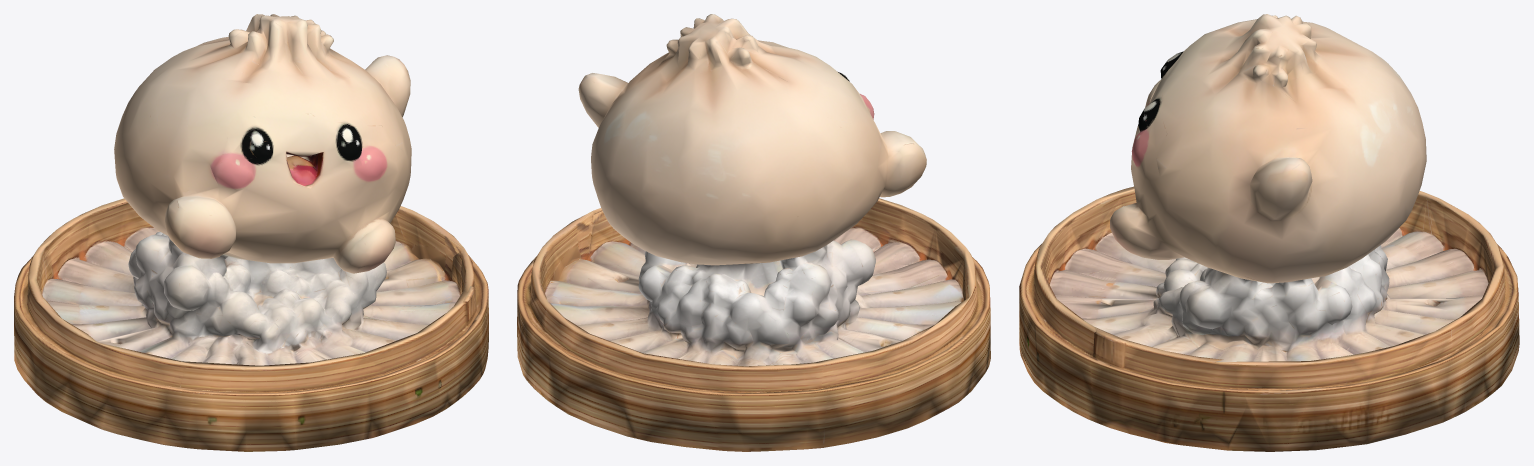
Rendered from soft_dumpling.glb.
The picture shows the model from 3 angles, left to right: view 1: azimuth 30°, elevation 25°; view 2: azimuth 150°, elevation 25°; view 3: azimuth 270°, elevation 25°; orthographic projection. The views are drawn at different scales.
Visible parts, largest first — view 1: Mesh_0; view 2: Mesh_0; view 3: Mesh_0.
Boxes of the visible parts, x1=… form: Mesh_0: x1=14, y1=14, x2=488, y2=451; Mesh_0: x1=517, y1=14, x2=990, y2=451; Mesh_0: x1=1019, y1=14, x2=1519, y2=451.
Size of the model in its own units: 2 by 1.52 by 2.
1 material, 1 textured.
